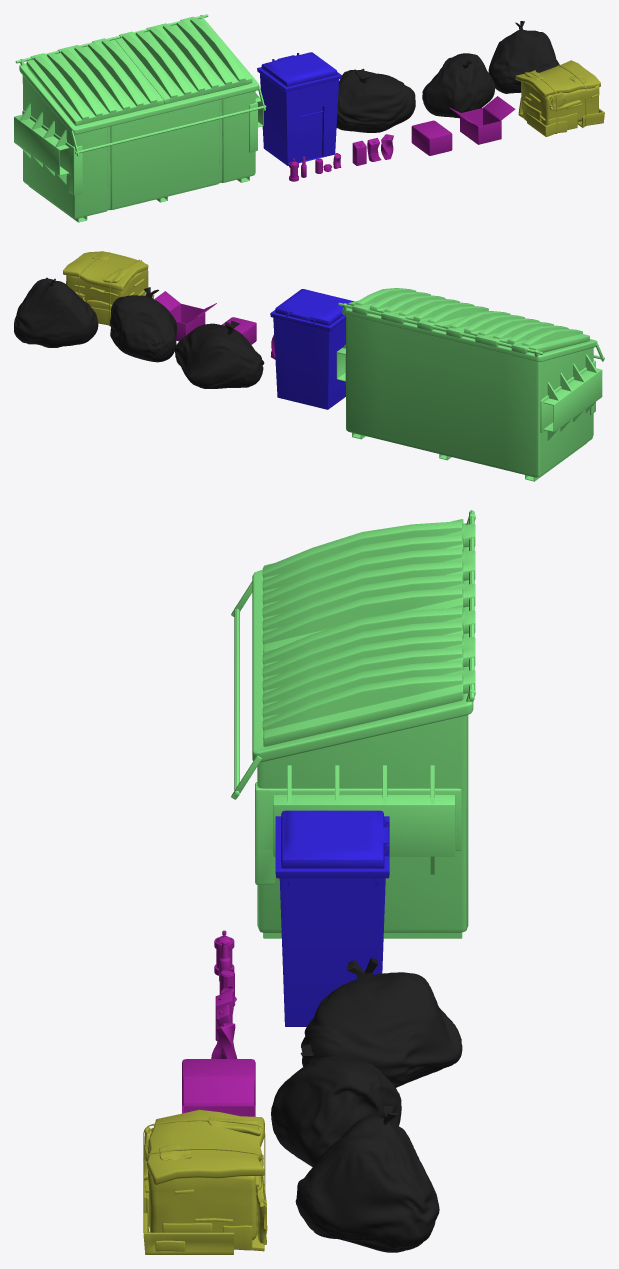
The model's file is TrashAssets.fbx.
The picture shows the model from 3 angles, top to bottom: view 1: azimuth 30°, elevation 25°; view 2: azimuth 150°, elevation 25°; view 3: azimuth 270°, elevation 25°; orthographic projection. The views are drawn at different scales.
Parts seen in each view (by area): view 1: TrashContainer, TrashBinCap_Left, TrashBinCap_Right, TrashBin, TrashBag1, TrashBag2, Trashbag3, CardboardCompressedPart000, CardboarBox002, TrashBin_Cap, CardboardCompressedPart007, CardboarBox001 (+3 smaller); view 2: TrashContainer, TrashBin, TrashBag1, Trashbag3, TrashBag2, TrashBinCap_Left, TrashBinCap_Right, CardboardCompressedPart007, TrashBin_Cap, CardboardCompressedPart000, CardboarBox002, CardboarBox001; view 3: TrashContainer, TrashBinCap_Right, TrashBinCap_Left, Trashbag3, TrashBin, TrashBag1, TrashBag2, CardboardCompressedPart007, TrashBin_Cap, CardboardCompressedPart000, CardboarBox002, CardboardBoxPart002 (+1 smaller).
Part boxes in pixels (x1,y1,x2,y2): TrashContainer: (14,14,266,222); TrashBinCap_Left: (26,38,163,125); TrashBinCap_Right: (115,16,252,104); TrashBin: (257,53,341,165); TrashBag1: (336,68,415,132); TrashBag2: (422,53,494,118); Trashbag3: (488,21,559,93); CardboardCompressedPart000: (521,81,599,125); CardboarBox002: (449,96,515,144); TrashBin_Cap: (261,52,337,86); CardboardCompressedPart007: (515,60,600,97); CardboarBox001: (411,120,452,155); TrashContainer: (336,302,604,481); TrashBin: (270,310,345,409); TrashBag1: (175,320,264,388); Trashbag3: (14,277,98,347); TrashBag2: (110,287,176,362); TrashBinCap_Left: (442,311,589,353); TrashBinCap_Right: (348,288,488,330); CardboardCompressedPart007: (63,251,148,290); TrashBin_Cap: (275,289,354,325); CardboardCompressedPart000: (66,269,148,304); CardboarBox002: (154,291,216,341); CardboarBox001: (221,317,256,344); TrashContainer: (231,510,475,938); TrashBinCap_Right: (262,605,475,746); TrashBinCap_Left: (262,519,475,652); Trashbag3: (295,1106,439,1252); TrashBin: (275,816,389,1026); TrashBag1: (301,958,462,1087); TrashBag2: (271,1044,401,1167); CardboardCompressedPart007: (146,1109,264,1184); TrashBin_Cap: (281,810,389,868); CardboardCompressedPart000: (145,1128,259,1240); CardboarBox002: (182,1076,255,1116); CardboardBoxPart002: (143,1213,233,1254).
Bounding box in the file's own units: 5182 × 1224 × 1436.
